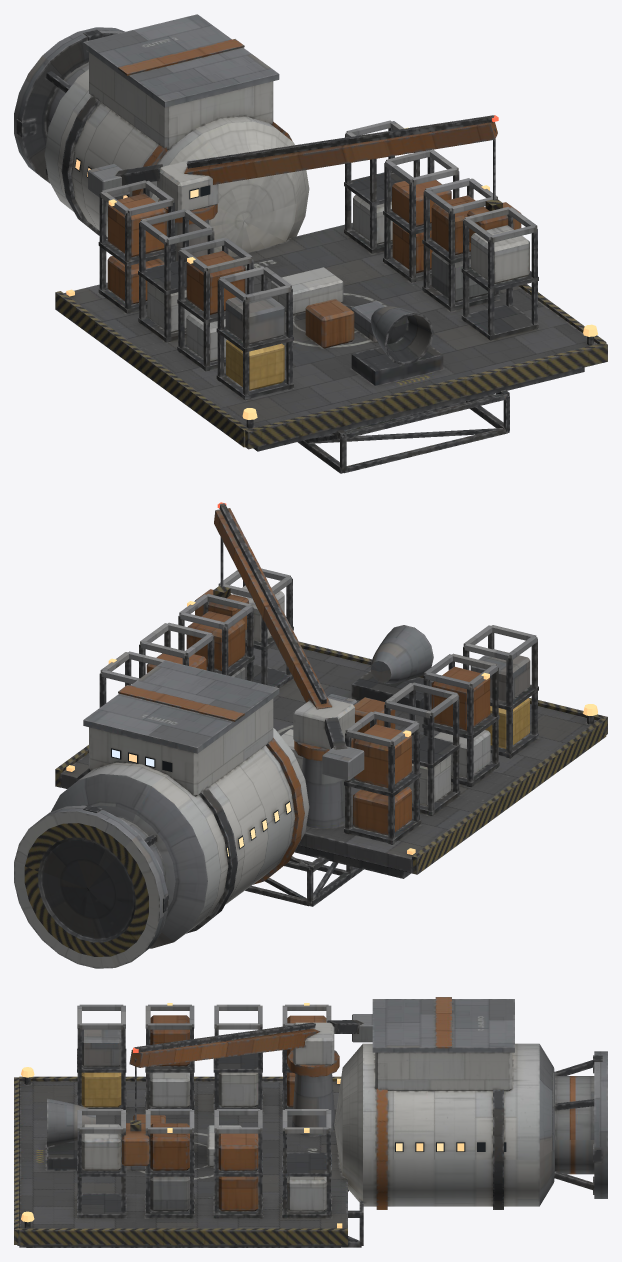
Rendered from addon_outfitter.glb.
3 views of the same model, one above another, from view 1: azimuth 30°, elevation 25°; view 2: azimuth 150°, elevation 25°; view 3: azimuth 270°, elevation 25° (orthographic). The views are drawn at different scales.
Parts seen in each view (by area): view 1: addon_outfitter_hull, addon_outfitter_lights; view 2: addon_outfitter_hull, addon_outfitter_lights; view 3: addon_outfitter_hull, addon_outfitter_lights.
Part boxes in pixels (x1,y1,x2,y2): addon_outfitter_hull: (14, 14, 607, 473); addon_outfitter_lights: (63, 115, 597, 419); addon_outfitter_hull: (14, 503, 607, 968); addon_outfitter_lights: (66, 502, 597, 857); addon_outfitter_hull: (14, 997, 607, 1247); addon_outfitter_lights: (21, 1003, 506, 1228).
Bounding box in the file's own units: 26.6 × 17.87 × 43.4.
Materials: 7 (1 with a texture image).
